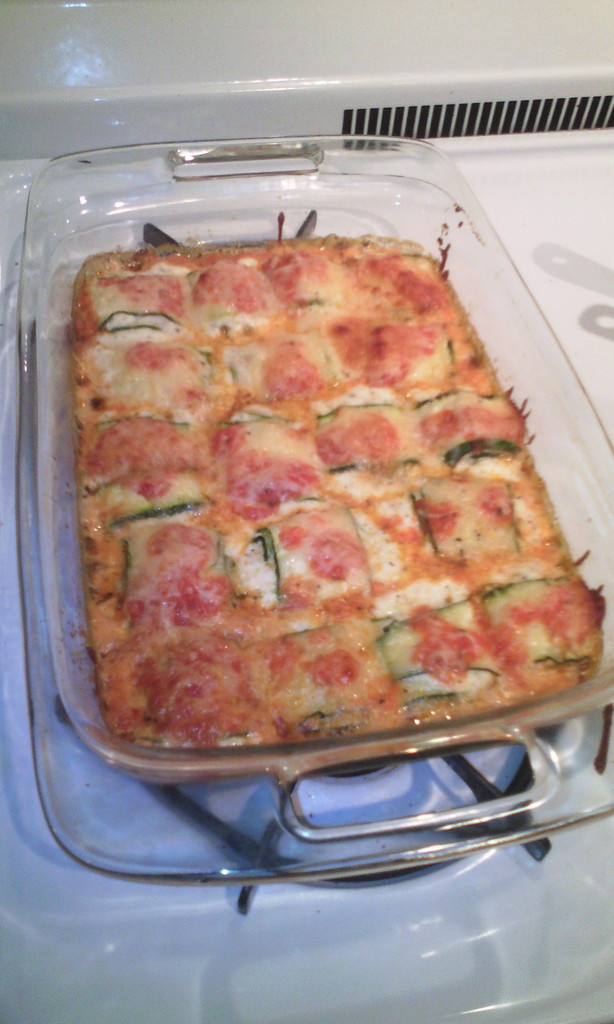Pizza: (42, 233, 594, 808)
